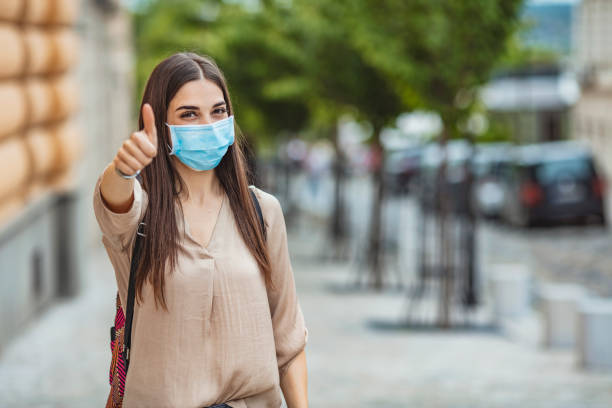with mask: (153, 56, 242, 174)
